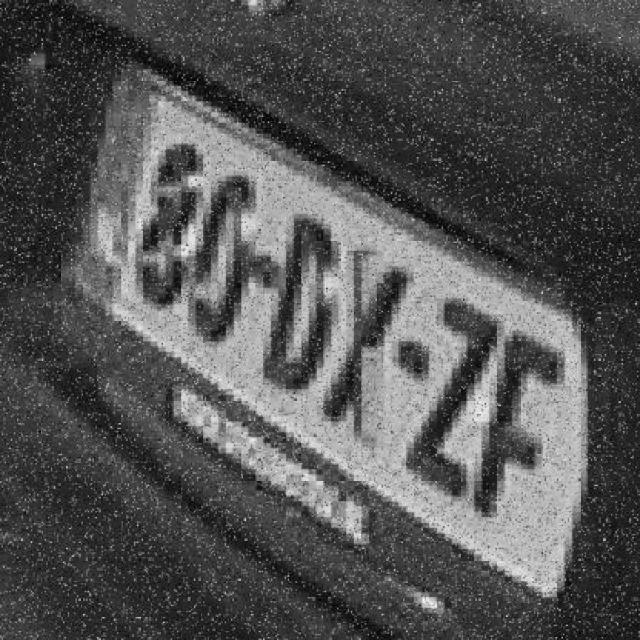licenseplate: (29, 35, 613, 590)
